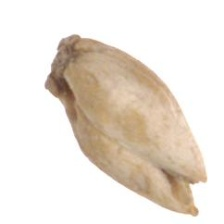L1: (161, 162, 209, 216), (42, 33, 80, 99)
L2: (44, 33, 208, 218)
